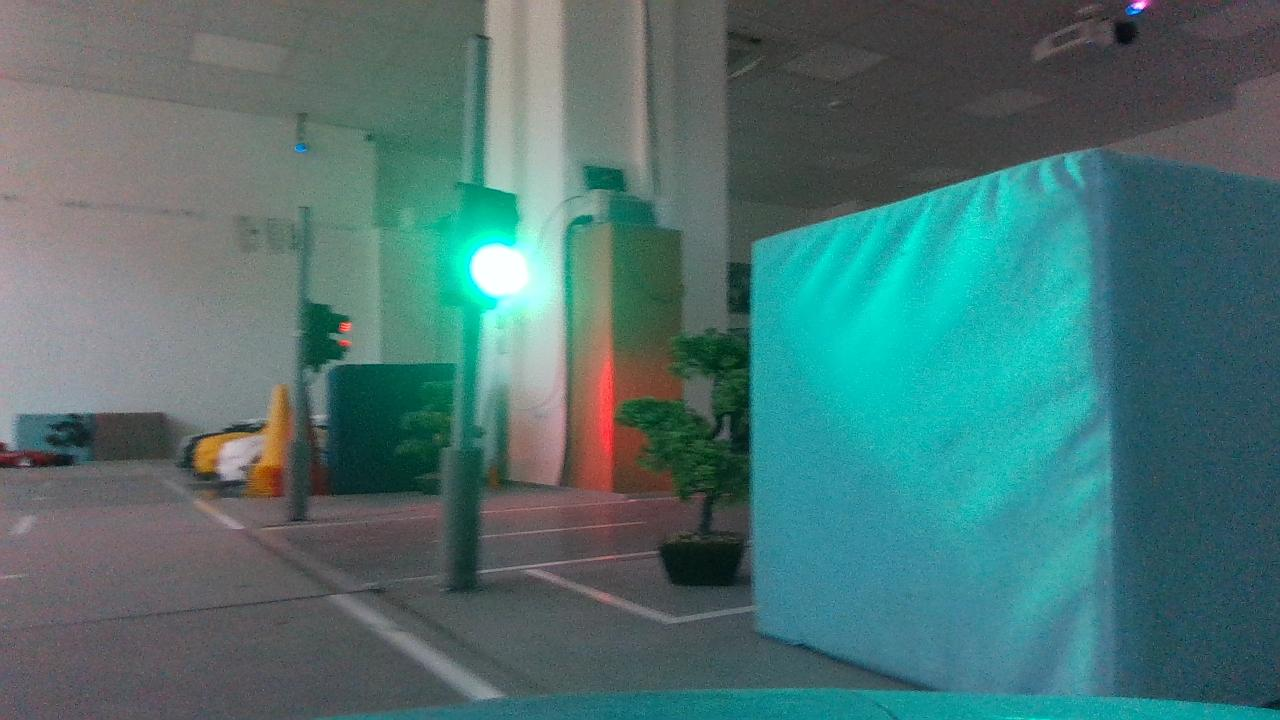traffic_light_green: (424, 162, 550, 332)
